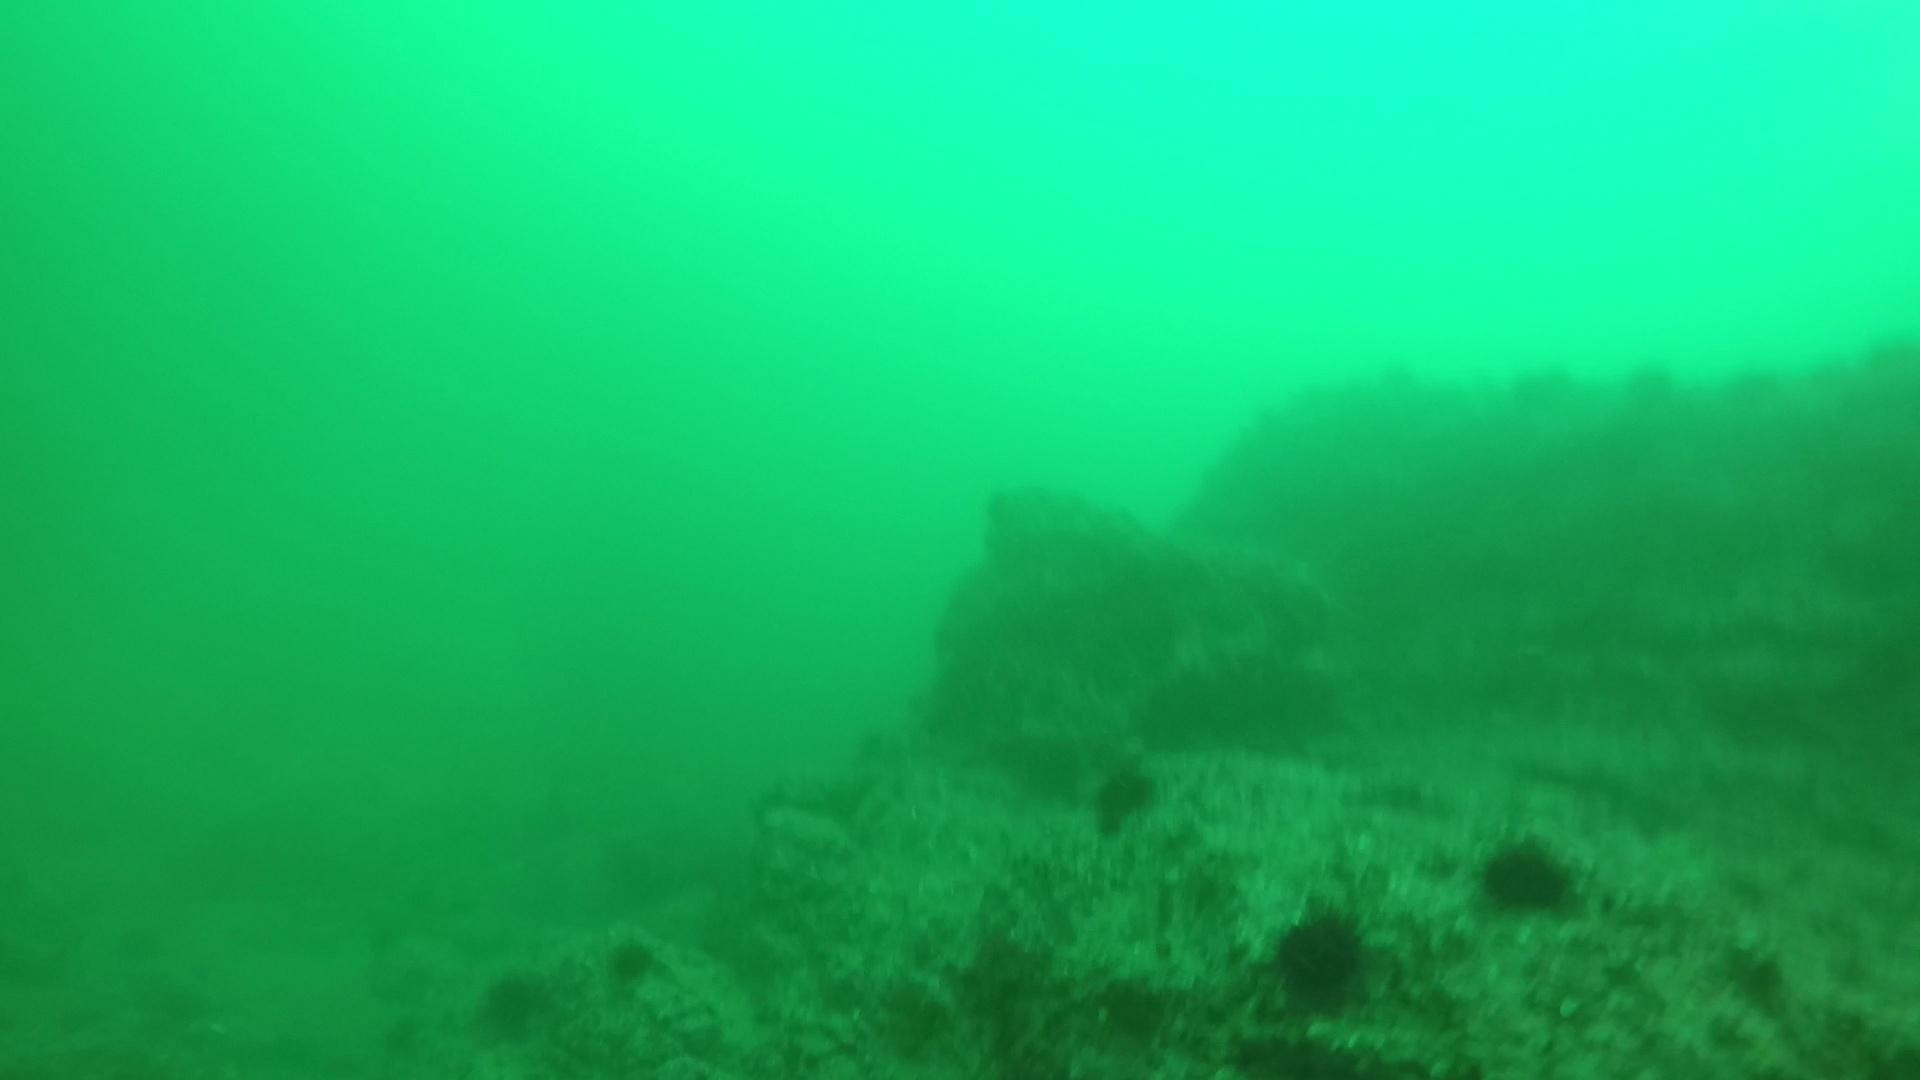echinus: (1263, 899, 1377, 1015), (1470, 829, 1584, 922), (1083, 756, 1164, 836), (1614, 345, 1695, 426), (471, 964, 553, 1043), (1706, 345, 1787, 425), (1503, 342, 1584, 421), (1370, 345, 1437, 410), (597, 930, 665, 992)
